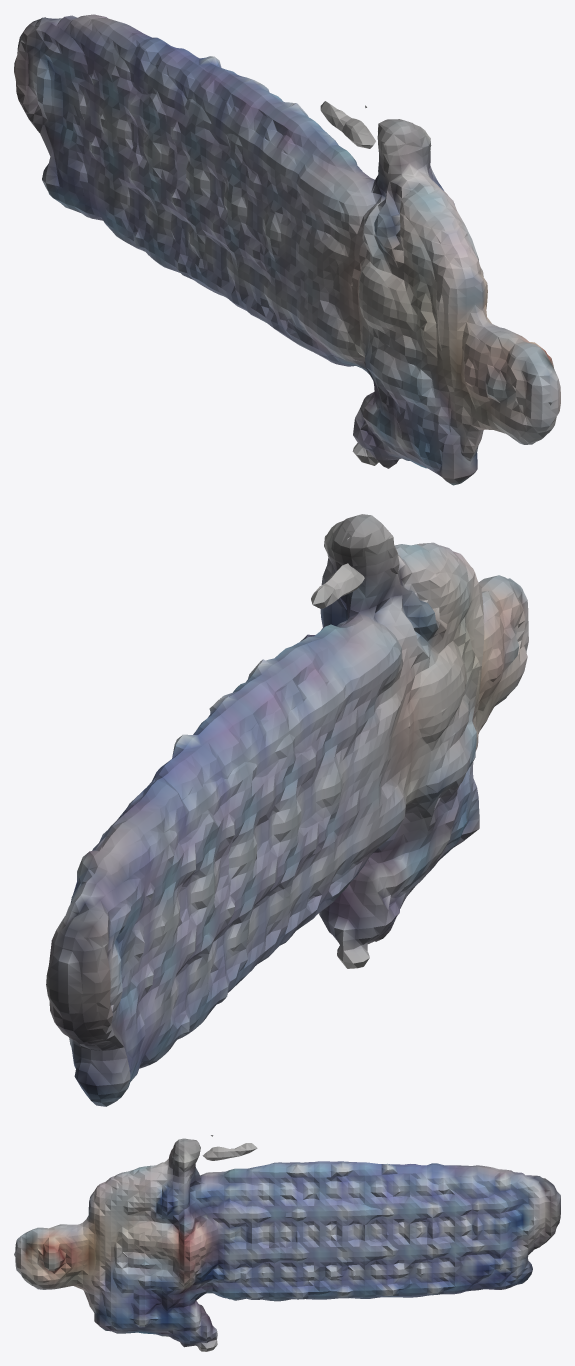
The picture shows the model from 3 angles, top to bottom: view 1: azimuth 30°, elevation 25°; view 2: azimuth 150°, elevation 25°; view 3: azimuth 270°, elevation 25°; orthographic projection. The views are drawn at different scales.
Visible parts, largest first — view 1: mesh.obj; view 2: mesh.obj; view 3: mesh.obj.
Part boxes in pixels (x1,y1,x2,y2): mesh.obj: [14, 14, 560, 485]; mesh.obj: [46, 514, 528, 1106]; mesh.obj: [14, 1135, 560, 1351].
Bounding box in the file's own units: 0.1248 × 0.2895 × 0.6619.
